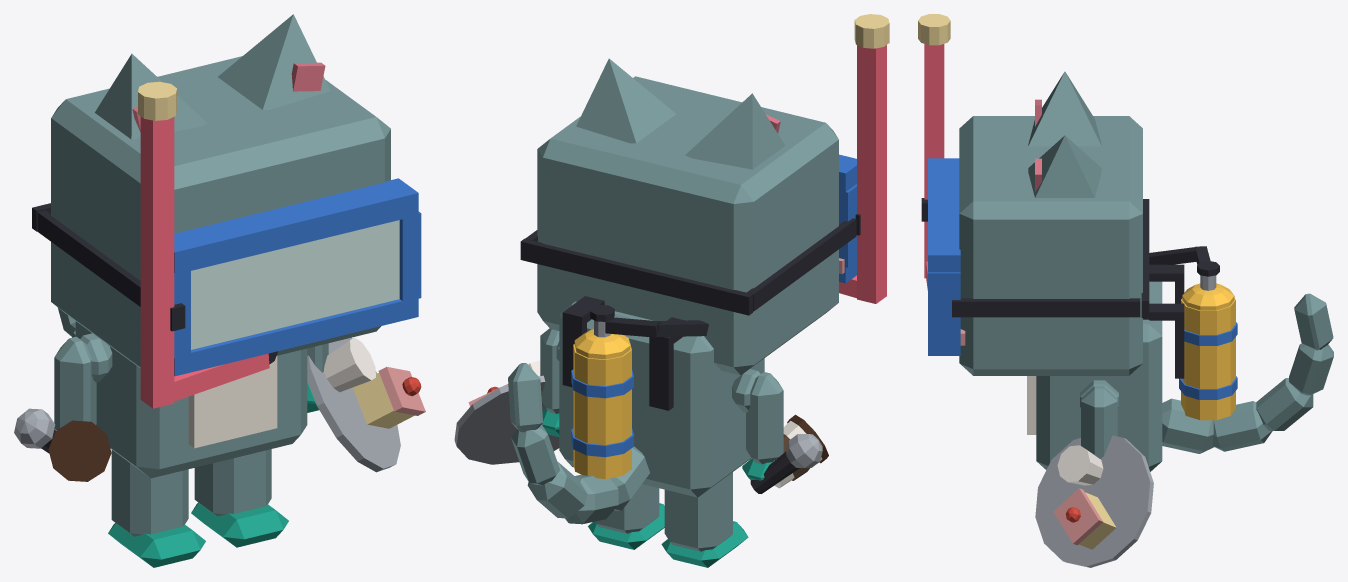
The model's file is CatCafe_Cat_Glimmer_Work.glb.
3 views of the same model, side by side, from view 1: azimuth 30°, elevation 25°; view 2: azimuth 150°, elevation 25°; view 3: azimuth 270°, elevation 25° (orthographic). The views are drawn at different scales.
Parts seen in each view (by area): view 1: CatCafe_Cat_Glimmer_Work_Head, CatCafe_Cat_Glimmer_Work_Prop, CatCafe_Cat_Glimmer_Work_Body, CatCafe_Cat_Glimmer_Work_Prop_Glass, CatCafe_Cat_Glimmer_Work_Held_Waiter, CatCafe_Cat_Glimmer_Work_LegB2, CatCafe_Cat_Glimmer_Work_LegB1, CatCafe_Cat_Glimmer_Work_EarL, CatCafe_Cat_Glimmer_Work_LegF2, CatCafe_Cat_Glimmer_Work_EarR, CatCafe_Cat_Glimmer_Work_Held_Barista, CatCafe_Cat_Glimmer_Work_Held_Entertainer (+1 smaller); view 2: CatCafe_Cat_Glimmer_Work_Head, CatCafe_Cat_Glimmer_Work_Prop, CatCafe_Cat_Glimmer_Work_Body, CatCafe_Cat_Glimmer_Work_Prop2, CatCafe_Cat_Glimmer_Work_Tail, CatCafe_Cat_Glimmer_Work_LegB2, CatCafe_Cat_Glimmer_Work_EarL, CatCafe_Cat_Glimmer_Work_EarR, CatCafe_Cat_Glimmer_Work_Held_Waiter, CatCafe_Cat_Glimmer_Work_LegF2, CatCafe_Cat_Glimmer_Work_LegB1, CatCafe_Cat_Glimmer_Work_Held_Entertainer (+2 smaller); view 3: CatCafe_Cat_Glimmer_Work_Head, CatCafe_Cat_Glimmer_Work_Prop, CatCafe_Cat_Glimmer_Work_Held_Waiter, CatCafe_Cat_Glimmer_Work_Prop2, CatCafe_Cat_Glimmer_Work_Body, CatCafe_Cat_Glimmer_Work_Tail, CatCafe_Cat_Glimmer_Work_EarR, CatCafe_Cat_Glimmer_Work_EarL, CatCafe_Cat_Glimmer_Work_LegF1.
Part boxes in pixels (x1,y1,x2,y2): CatCafe_Cat_Glimmer_Work_Head: (51,56,390,368); CatCafe_Cat_Glimmer_Work_Prop: (32,81,421,408); CatCafe_Cat_Glimmer_Work_Body: (75,321,307,478); CatCafe_Cat_Glimmer_Work_Prop_Glass: (191,220,399,349); CatCafe_Cat_Glimmer_Work_Held_Waiter: (307,337,425,472); CatCafe_Cat_Glimmer_Work_LegB2: (108,450,205,567); CatCafe_Cat_Glimmer_Work_LegB1: (191,449,288,547); CatCafe_Cat_Glimmer_Work_EarL: (218,14,330,109); CatCafe_Cat_Glimmer_Work_LegF2: (54,336,96,430); CatCafe_Cat_Glimmer_Work_EarR: (95,53,207,139); CatCafe_Cat_Glimmer_Work_Held_Barista: (48,420,111,481); CatCafe_Cat_Glimmer_Work_Held_Entertainer: (14,408,55,453); CatCafe_Cat_Glimmer_Work_Head: (537,76,844,375); CatCafe_Cat_Glimmer_Work_Prop: (520,14,889,315); CatCafe_Cat_Glimmer_Work_Body: (556,301,764,497); CatCafe_Cat_Glimmer_Work_Prop2: (562,296,708,478); CatCafe_Cat_Glimmer_Work_Tail: (508,363,649,524); CatCafe_Cat_Glimmer_Work_LegB2: (661,472,748,567); CatCafe_Cat_Glimmer_Work_EarL: (576,58,675,143); CatCafe_Cat_Glimmer_Work_EarR: (685,93,785,169); CatCafe_Cat_Glimmer_Work_Held_Waiter: (454,360,559,464); CatCafe_Cat_Glimmer_Work_LegF2: (742,372,783,480); CatCafe_Cat_Glimmer_Work_LegB1: (588,484,664,549); CatCafe_Cat_Glimmer_Work_Held_Entertainer: (750,434,822,493); CatCafe_Cat_Glimmer_Work_Head: (959,116,1142,375); CatCafe_Cat_Glimmer_Work_Prop: (918,14,1149,355); CatCafe_Cat_Glimmer_Work_Held_Waiter: (1035,435,1153,567); CatCafe_Cat_Glimmer_Work_Prop2: (1143,246,1237,420); CatCafe_Cat_Glimmer_Work_Body: (1027,281,1162,471); CatCafe_Cat_Glimmer_Work_Tail: (1162,293,1333,453); CatCafe_Cat_Glimmer_Work_EarR: (1028,71,1101,146); CatCafe_Cat_Glimmer_Work_EarL: (1028,135,1101,197); CatCafe_Cat_Glimmer_Work_LegF1: (1081,386,1117,458).
Bounding box in the file's own units: 1.53 × 2.06 × 1.72.
Materials: 1 (1 with a texture image).
